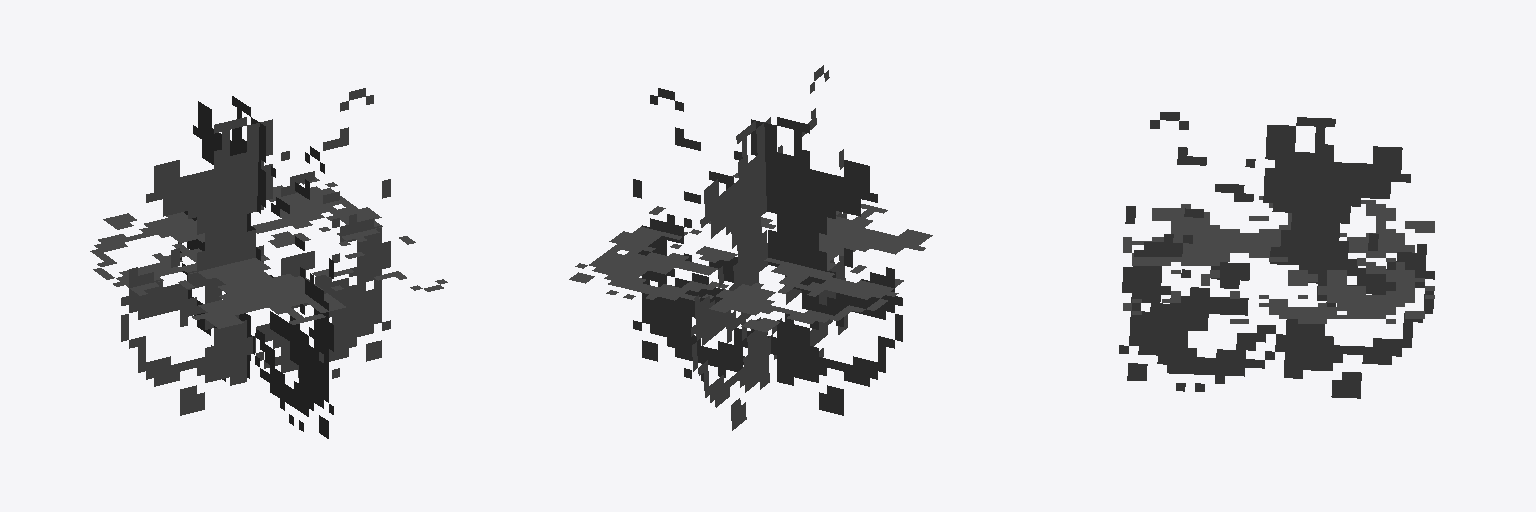
3 renders of one model, left to right at view 1: azimuth 30°, elevation 25°; view 2: azimuth 150°, elevation 25°; view 3: azimuth 270°, elevation 25°, orthographic.
Visible parts, largest first — view 1: Plane; view 2: Plane; view 3: Plane.
Part boxes in pixels (bbox=[...]): Plane: bbox=[90, 88, 447, 438]; Plane: bbox=[569, 65, 932, 430]; Plane: bbox=[1119, 112, 1434, 398].
Size of the model in its own units: 2 by 2.09 by 2.09.
1 materials, 1 textured.